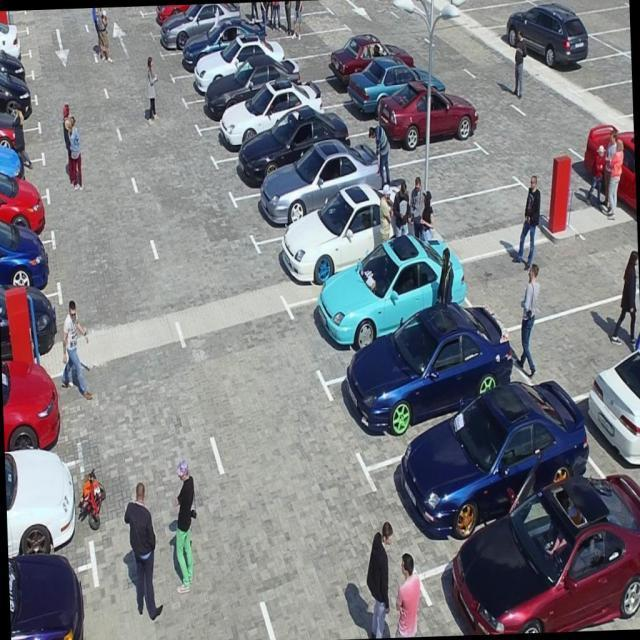car: (446, 470, 640, 636), (390, 377, 572, 548), (353, 312, 488, 462), (317, 240, 445, 374), (274, 185, 406, 293), (251, 133, 367, 240), (228, 115, 330, 202), (5, 464, 89, 558), (8, 563, 104, 639), (207, 90, 305, 162), (182, 46, 282, 106), (192, 72, 294, 130), (580, 356, 640, 454), (169, 22, 266, 80), (374, 102, 460, 160), (2, 388, 71, 460), (0, 292, 64, 365), (157, 6, 241, 56), (348, 80, 425, 131), (322, 62, 396, 111), (0, 238, 56, 294), (530, 30, 598, 74), (145, 2, 227, 34), (497, 16, 568, 52), (0, 195, 49, 231), (0, 128, 41, 164), (0, 99, 38, 129), (0, 158, 46, 182), (0, 77, 36, 104), (0, 52, 33, 81), (0, 30, 29, 55)
free: (520, 296, 640, 390), (470, 244, 604, 327), (433, 176, 533, 248), (398, 142, 488, 207), (561, 48, 632, 100), (254, 7, 334, 41), (302, 44, 364, 84), (570, 0, 630, 40), (276, 26, 344, 60), (592, 70, 633, 121), (468, 0, 530, 30), (239, 0, 310, 24), (444, 0, 512, 16), (607, 15, 631, 60), (545, 0, 617, 15), (136, 4, 220, 15), (509, 0, 582, 6)
